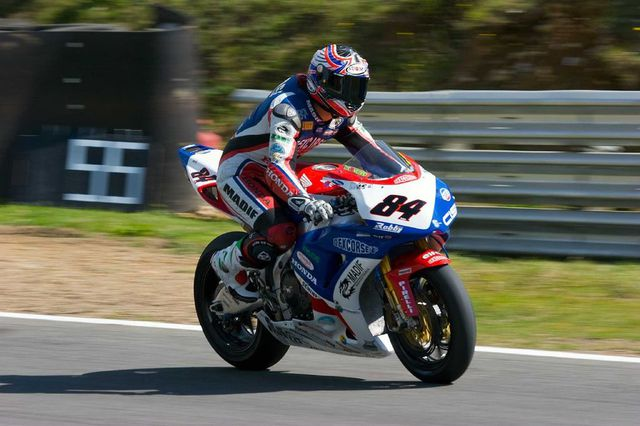helmet: (315, 42, 369, 118)
